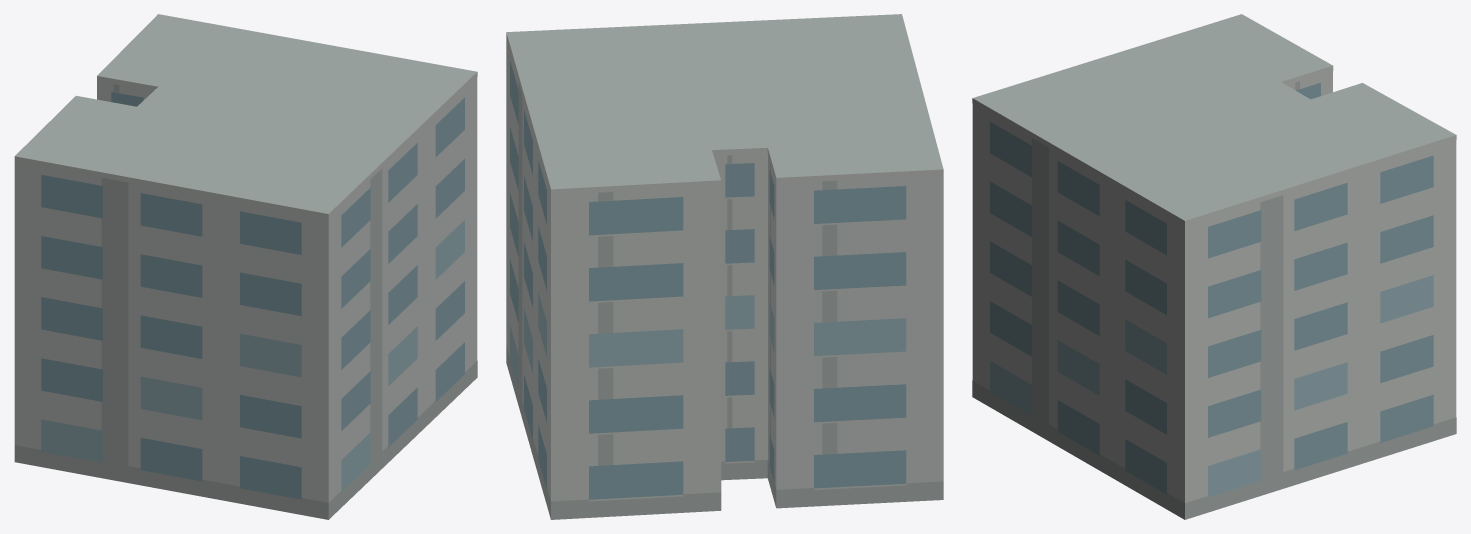
Rendered from survey-upis-32809281.glb.
3 views of the same model, side by side, from view 1: azimuth 30°, elevation 25°; view 2: azimuth 150°, elevation 25°; view 3: azimuth 270°, elevation 25° (orthographic). The views are drawn at different scales.
Visible parts, largest first — view 1: survey-upis-32809281.tmp; view 2: survey-upis-32809281.tmp; view 3: survey-upis-32809281.tmp.
Part boxes in pixels (left/top/right/bottom): survey-upis-32809281.tmp: left=14, top=14, right=477, bottom=519; survey-upis-32809281.tmp: left=506, top=14, right=943, bottom=519; survey-upis-32809281.tmp: left=972, top=14, right=1456, bottom=519.
Size of the model in its own units: 20.49 by 13.8 by 20.26.
